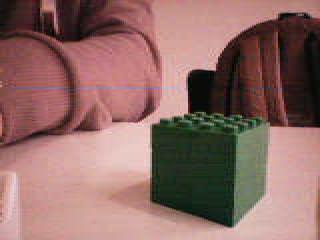legocube: (146, 108, 274, 229)
